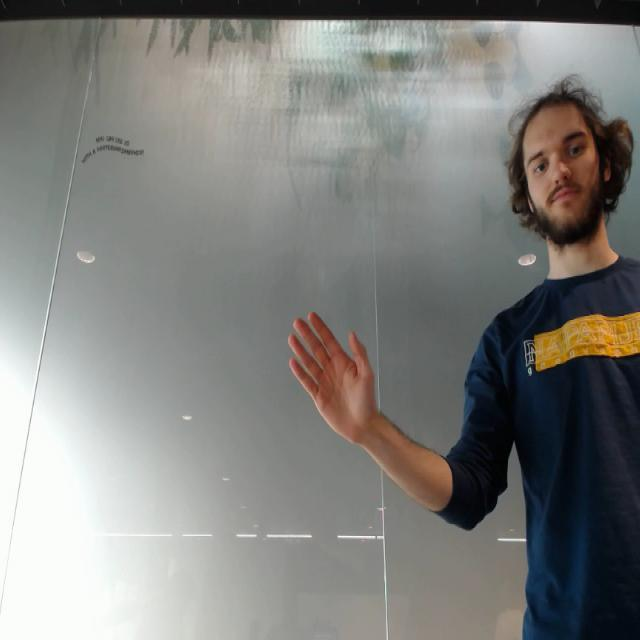backward: (275, 300, 383, 443)
